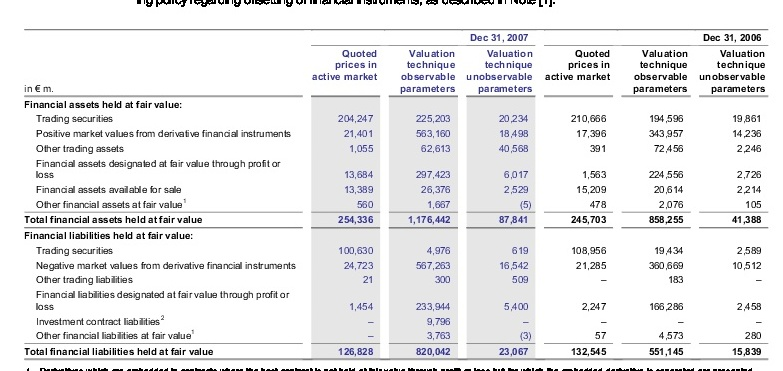table: (0, 0, 783, 371)
